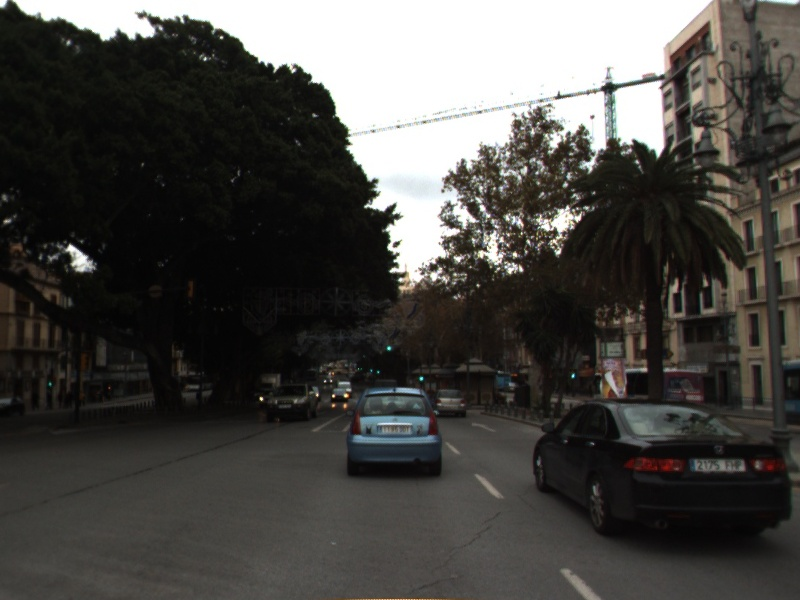STRAIGHT: (469, 420, 499, 434)
